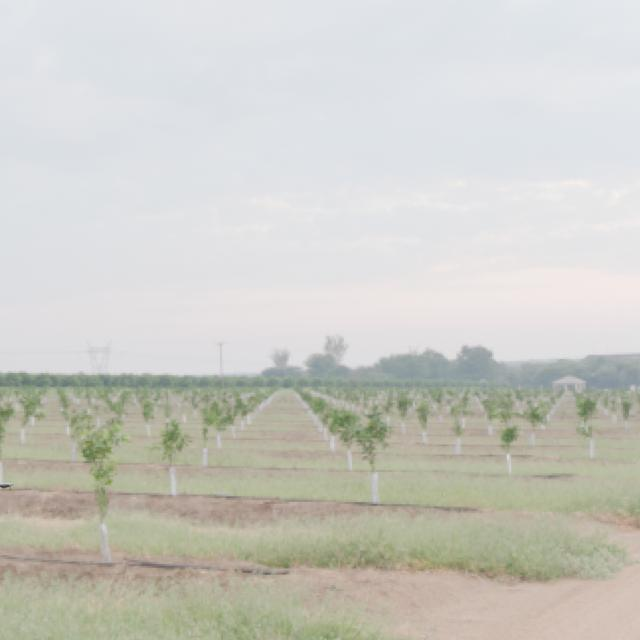Airaplan: (0, 481, 15, 490)
